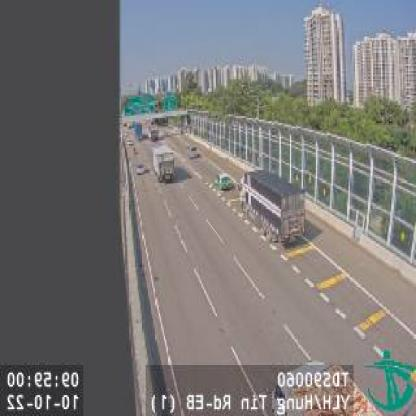Car: (216, 174, 235, 191), (135, 162, 145, 174), (190, 144, 200, 156)
Truck: (239, 168, 306, 246), (155, 149, 175, 184)
